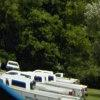Boat: (1, 61, 94, 100)
